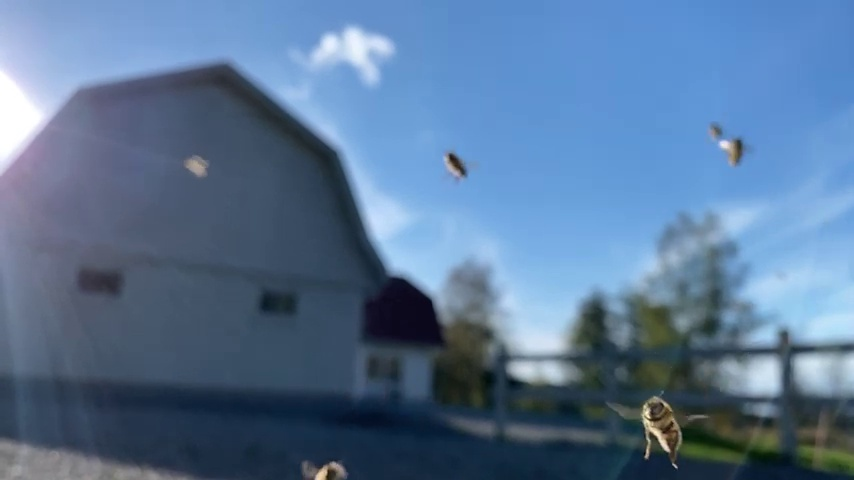insect: (605, 388, 702, 469), (707, 119, 748, 169), (438, 152, 478, 185)
